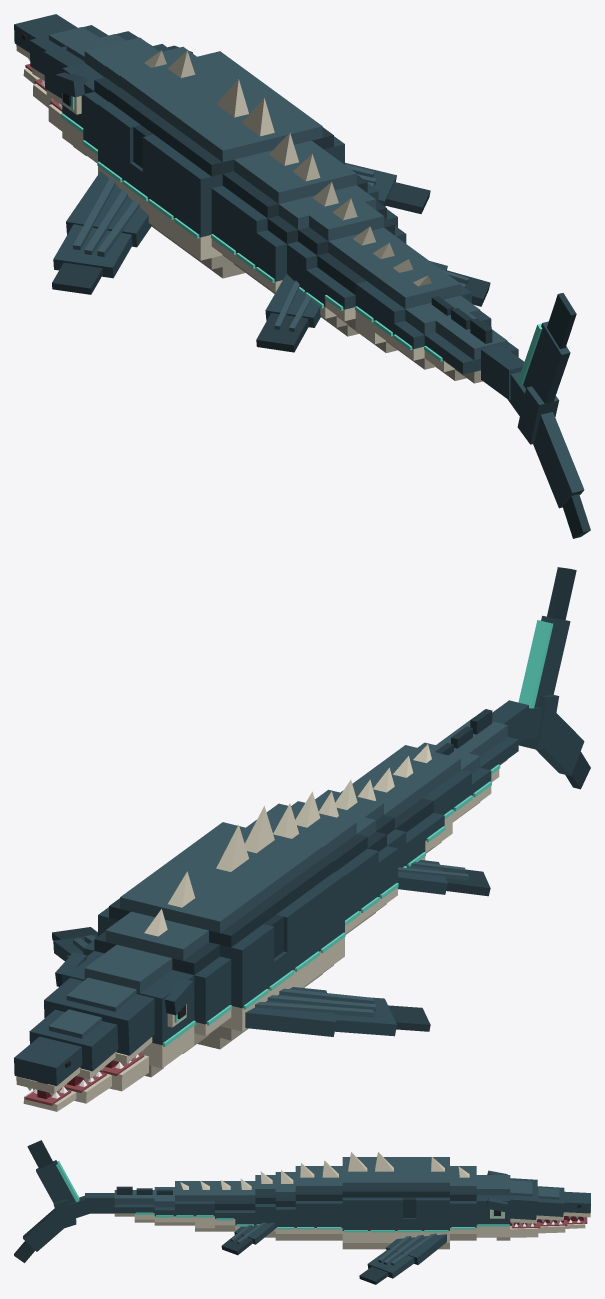
The model's file is Mosasaurus.obj.
The picture shows the model from 3 angles, top to bottom: view 1: azimuth 30°, elevation 25°; view 2: azimuth 150°, elevation 25°; view 3: azimuth 270°, elevation 25°; orthographic projection. The views are drawn at different scales.
Parts seen in each view (by area): view 1: S5, Head, Fluke, FlipperFL, S4, S2, S3, S7, S6, S8, S9, S13 (+12 smaller); view 2: Head, S2, S1, Fluke, FlipperFL, S4, S5, S3, S7, S6, Jaw, FlipperBL (+11 smaller); view 3: Head, Fluke, S5, S4, S2, S3, FlipperFR, S6, S1, S7, S8, S9 (+10 smaller).
Boxes of the visible parts, left/top/right/bottom form: S5: left=174, top=97, right=344, bottom=278; Head: left=14, top=14, right=192, bottom=160; Fluke: left=517, top=293, right=590, bottom=538; FlipperFL: left=52, top=171, right=151, bottom=294; S4: left=148, top=79, right=296, bottom=259; S2: left=97, top=50, right=245, bottom=189; S3: left=123, top=70, right=270, bottom=240; S7: left=236, top=154, right=378, bottom=293; S6: left=211, top=133, right=336, bottom=282; S8: left=256, top=182, right=397, bottom=293; S9: left=287, top=198, right=406, bottom=321; S13: left=374, top=270, right=471, bottom=355; Head: left=14, top=944, right=195, bottom=1098; S2: left=98, top=871, right=268, bottom=1049; S1: left=83, top=909, right=231, bottom=1053; Fluke: left=518, top=567, right=590, bottom=789; FlipperFL: left=245, top=987, right=430, bottom=1036; S4: left=172, top=824, right=319, bottom=987; S5: left=197, top=806, right=345, bottom=987; S3: left=146, top=859, right=294, bottom=1030; S7: left=266, top=791, right=379, bottom=934; S6: left=246, top=803, right=360, bottom=933; Jaw: left=23, top=1053, right=148, bottom=1111; FlipperBL: left=398, top=860, right=490, bottom=896; Head: left=476, top=1170, right=590, bottom=1240; Fluke: left=14, top=1140, right=79, bottom=1262; S5: left=342, top=1152, right=369, bottom=1249; S4: left=369, top=1152, right=396, bottom=1249; S2: left=423, top=1157, right=449, bottom=1249; S3: left=396, top=1157, right=422, bottom=1238; FlipperFR: left=359, top=1233, right=446, bottom=1284; S6: left=315, top=1160, right=342, bottom=1240; S1: left=450, top=1166, right=476, bottom=1240; S7: left=295, top=1163, right=315, bottom=1240; S8: left=275, top=1170, right=295, bottom=1240; S9: left=255, top=1171, right=275, bottom=1237.
Bounding box in the file's own units: 17.04 × 10 × 43.02.
1 material, 1 textured.
